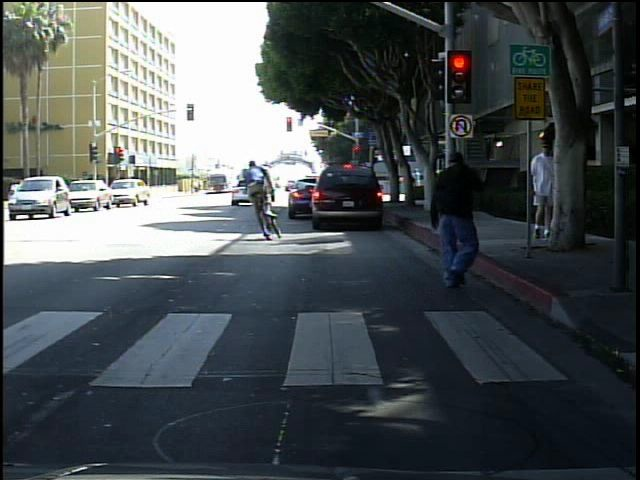person: (423, 148, 492, 296), (221, 147, 284, 232), (521, 135, 562, 242), (541, 139, 577, 244)
